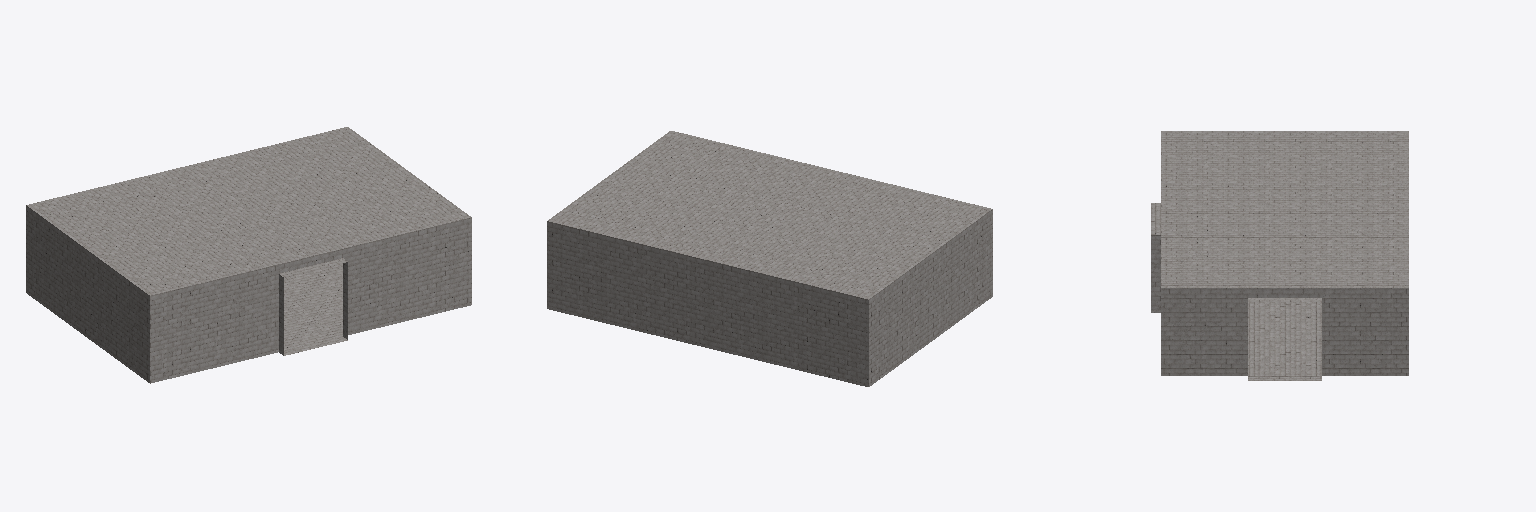
3 renders of one model, left to right at view 1: azimuth 30°, elevation 25°; view 2: azimuth 150°, elevation 25°; view 3: azimuth 270°, elevation 25°, orthographic.
Visible parts, largest first — view 1: Cube.002_Room1; view 2: Cube.002_Room1; view 3: Cube.002_Room1.
Part boxes in pixels (bbox=[...]): Cube.002_Room1: bbox=[26, 127, 471, 383]; Cube.002_Room1: bbox=[547, 131, 992, 386]; Cube.002_Room1: bbox=[1151, 131, 1408, 380].
Size of the model in its own units: 18.5 by 4.7 by 12.5.
Materials: 1 (1 with a texture image).